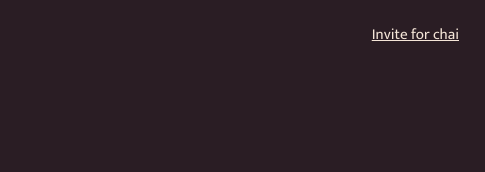
Scenario: with no friends yet, the picker says how to make one
Step 1. Click the button "Invite for chai" → [415, 34], box top-left (358, 12), bottom-right (473, 56)
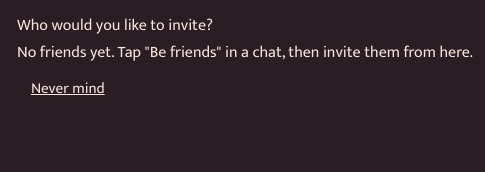
Result: the text "No friends yet. Tap \"Be friends\" in a chat" is shown at top-left (17, 39), bottom-right (473, 66)
